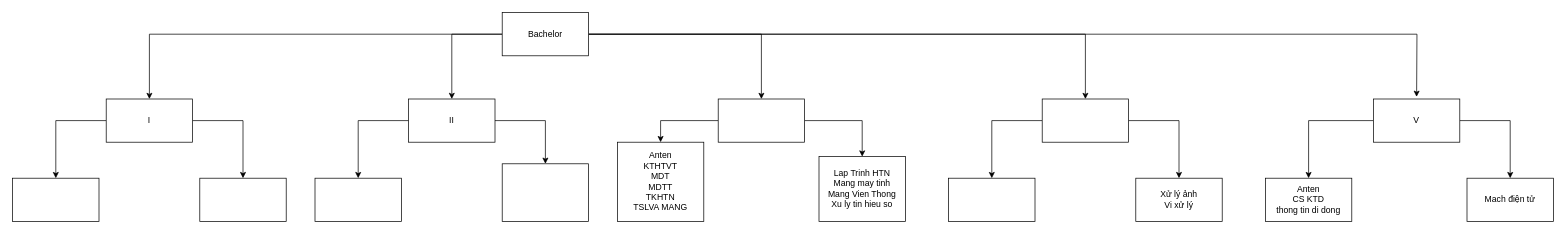
Image size: 1566x234. Some labels were removed from this diagram. The centre of each missing label's shape, as x and y in pixels:
CS TD CS DTCS Truong DT Vi Xu Ly Xu ly tin hieu so: pixel 545 192
III: pixel 761 120
IV: pixel 1085 120
Ngon Ngu C Tin hieu HT: pixel 357 199
